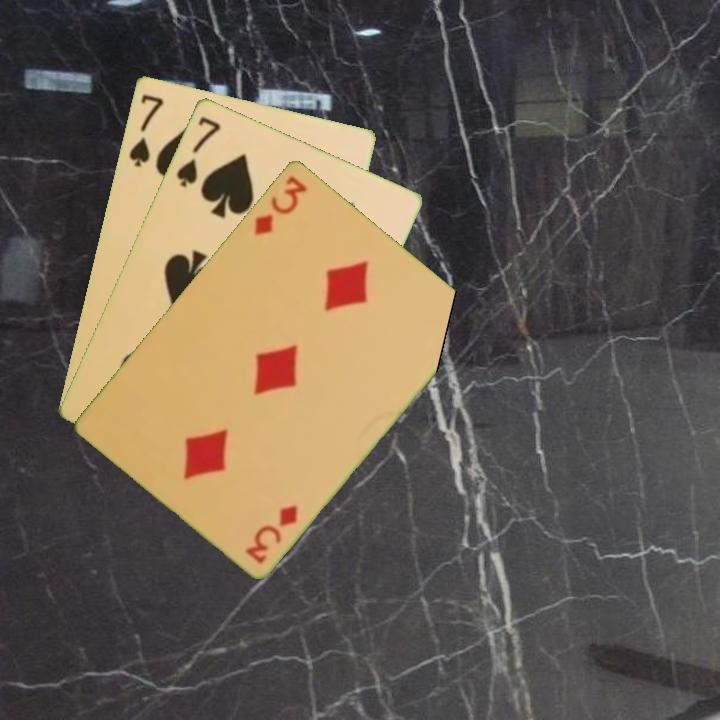3d: (250, 171, 310, 238), (241, 501, 301, 566)
7s: (172, 112, 224, 190), (125, 90, 166, 170)
